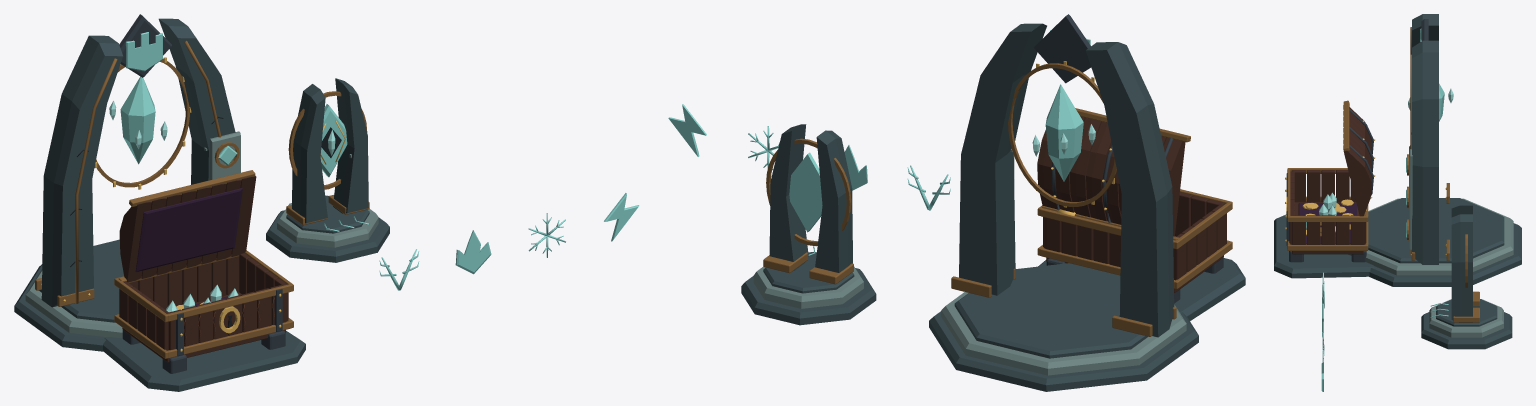
Rendered from waystone.glb.
3 renders of one model, left to right at view 1: azimuth 30°, elevation 25°; view 2: azimuth 150°, elevation 25°; view 3: azimuth 270°, elevation 25°, orthographic. The views are drawn at different scales.
Parts seen in each view (by area): view 1: Split oath pylon, Lid inner leather panel, Coffer foundation, Split oath pylon.001, Ward split monolith, Ward split monolith.001, Octagonal dressed plinth.002, Ward octagonal footing, Suspended oath heart, Octagonal dressed plinth, Ward octagonal footing.001, Octagonal dressed plinth.001 (+18 smaller); view 2: Split oath pylon, Split oath pylon.001, Octagonal dressed plinth.002, Octagonal dressed plinth, Octagonal dressed plinth.001, Ward split monolith, Ward split monolith.001, Ward octagonal footing, Suspended oath heart, Coffer foundation, Oath crest backing, Ward octagonal footing.001 (+24 smaller); view 3: Split oath pylon.001, Octagonal dressed plinth.002, Coffer foundation, Ward split monolith.001, Octagonal dressed plinth.001, Octagonal dressed plinth, Ward octagonal footing, Ward octagonal footing.001, Arched lid plank.007, Ward octagonal footing.002, Split oath pylon, Side forged band.001 (+15 smaller).
Boxes of the visible parts, x1=… form: Split oath pylon: x1=41, y1=35, x2=123, y2=307; Lid inner leather panel: x1=135, y1=188, x2=242, y2=271; Coffer foundation: x1=103, y1=331, x2=305, y2=391; Split oath pylon.001: x1=158, y1=18, x2=235, y2=184; Ward split monolith: x1=292, y1=84, x2=327, y2=223; Ward split monolith.001: x1=333, y1=78, x2=368, y2=213; Octagonal dressed plinth.002: x1=39, y1=239, x2=123, y2=322; Ward octagonal footing: x1=266, y1=210, x2=389, y2=262; Suspended oath heart: x1=120, y1=76, x2=155, y2=164; Octagonal dressed plinth: x1=14, y1=264, x2=106, y2=351; Ward octagonal footing.001: x1=277, y1=203, x2=378, y2=247; Octagonal dressed plinth.001: x1=25, y1=269, x2=122, y2=338; Split oath pylon: x1=1085, y1=42, x2=1174, y2=337; Split oath pylon.001: x1=959, y1=23, x2=1046, y2=295; Octagonal dressed plinth.002: x1=954, y1=263, x2=1147, y2=358; Octagonal dressed plinth: x1=929, y1=311, x2=1198, y2=391; Octagonal dressed plinth.001: x1=941, y1=292, x2=1186, y2=375; Ward split monolith: x1=815, y1=130, x2=852, y2=272; Ward split monolith.001: x1=769, y1=124, x2=808, y2=270; Ward octagonal footing: x1=741, y1=268, x2=876, y2=325; Suspended oath heart: x1=1045, y1=84, x2=1083, y2=181; Coffer foundation: x1=1038, y1=258, x2=1245, y2=320; Oath crest backing: x1=1033, y1=14, x2=1090, y2=83; Ward octagonal footing.001: x1=753, y1=266, x2=863, y2=308; Split oath pylon.001: x1=1412, y1=40, x2=1438, y2=264; Octagonal dressed plinth.002: x1=1368, y1=198, x2=1504, y2=263; Coffer foundation: x1=1274, y1=214, x2=1373, y2=278; Ward split monolith.001: x1=1451, y1=214, x2=1472, y2=322; Octagonal dressed plinth.001: x1=1348, y1=198, x2=1513, y2=275; Octagonal dressed plinth: x1=1369, y1=223, x2=1521, y2=286; Ward octagonal footing: x1=1421, y1=312, x2=1512, y2=349; Ward octagonal footing.001: x1=1429, y1=299, x2=1503, y2=337; Arched lid plank.007: x1=1343, y1=145, x2=1371, y2=216; Ward octagonal footing.002: x1=1436, y1=299, x2=1497, y2=326; Split oath pylon: x1=1412, y1=14, x2=1438, y2=47; Side forged band.001: x1=1287, y1=244, x2=1368, y2=250.
Bounding box in the file's own units: 108 × 56.6 × 55.33.
